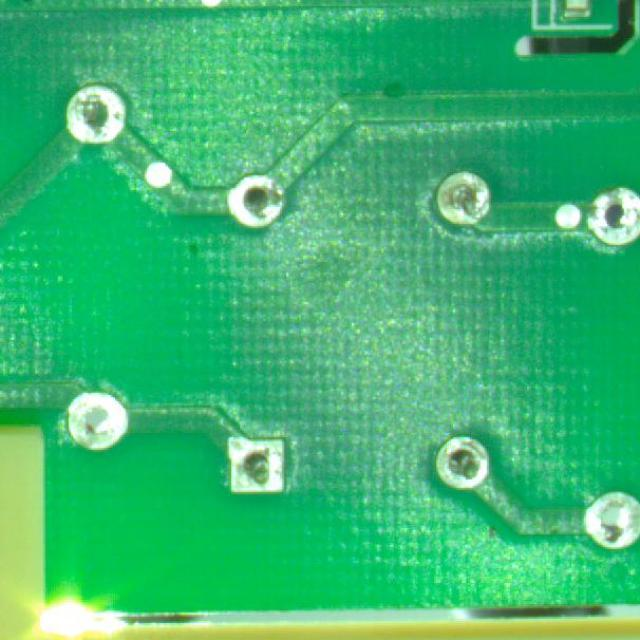oppostie_direction: (66, 86, 125, 144), (68, 394, 128, 449), (585, 492, 640, 548), (587, 188, 640, 246), (229, 438, 284, 493), (229, 175, 284, 227), (436, 436, 489, 489), (437, 174, 490, 224)
